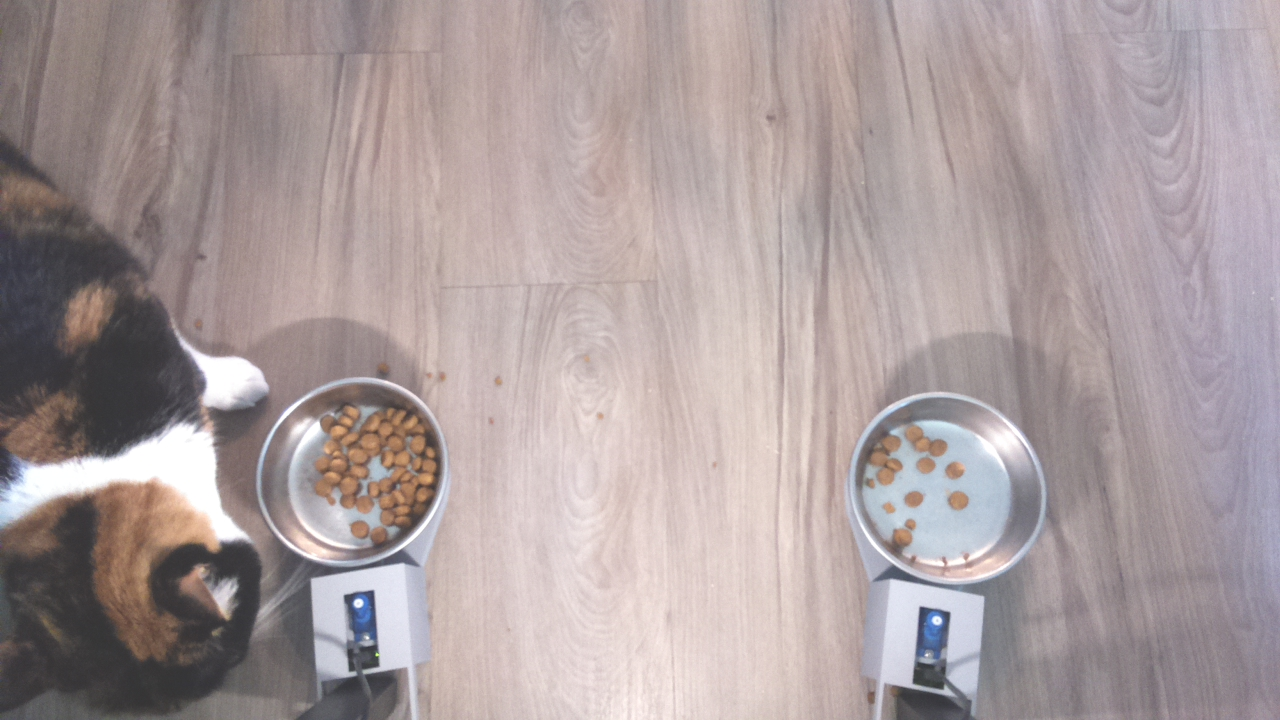bella: (1, 476, 265, 713)
open_bowl: (845, 384, 1056, 594), (248, 373, 464, 575)
